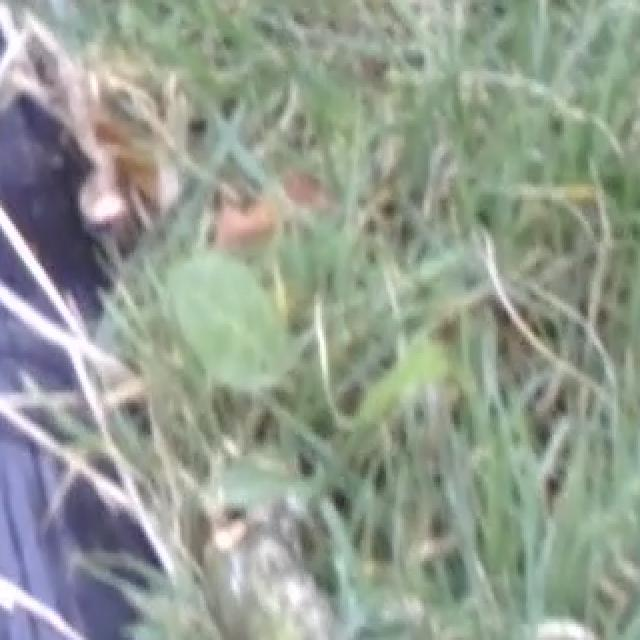organic waste: (88, 154, 358, 440)
